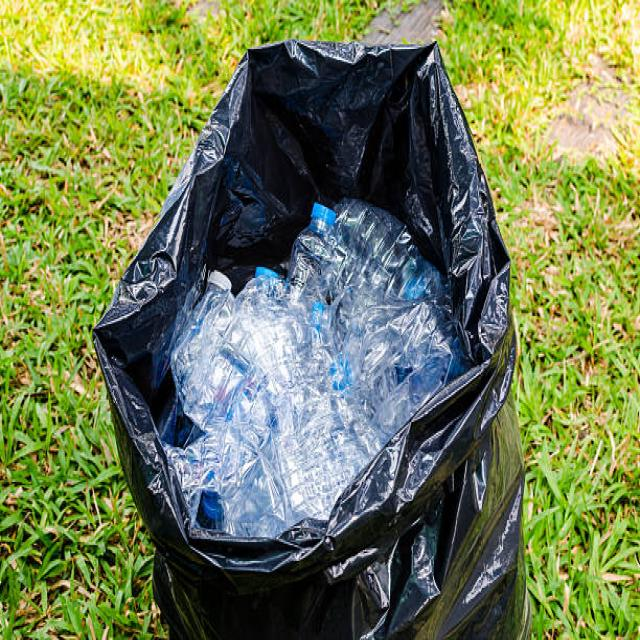trash: (81, 8, 542, 627)
